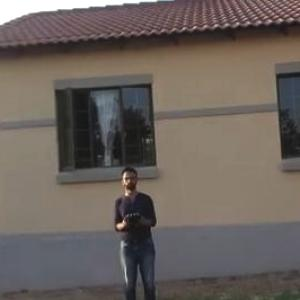follow: (110, 159, 164, 299)
